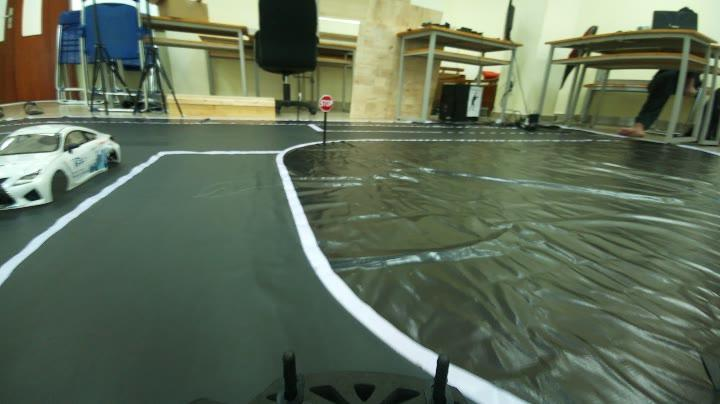car: (0, 117, 130, 221)
stop: (318, 93, 334, 106)
